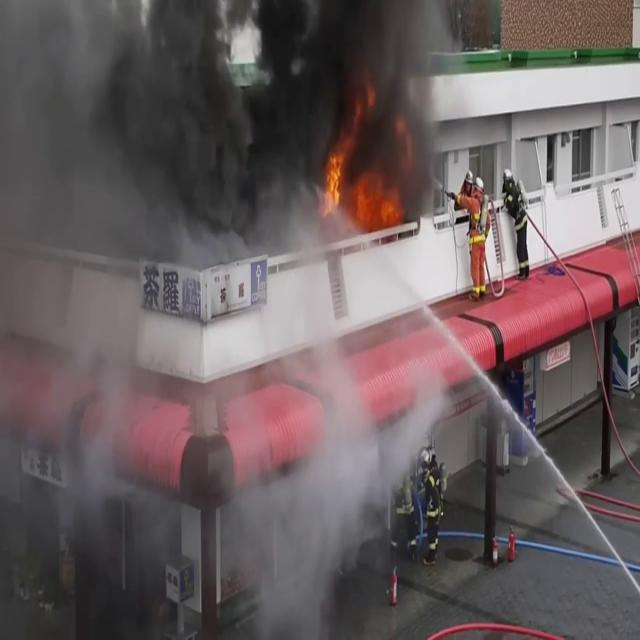Fire: (325, 161, 409, 238)
Smoke: (0, 0, 447, 250)
